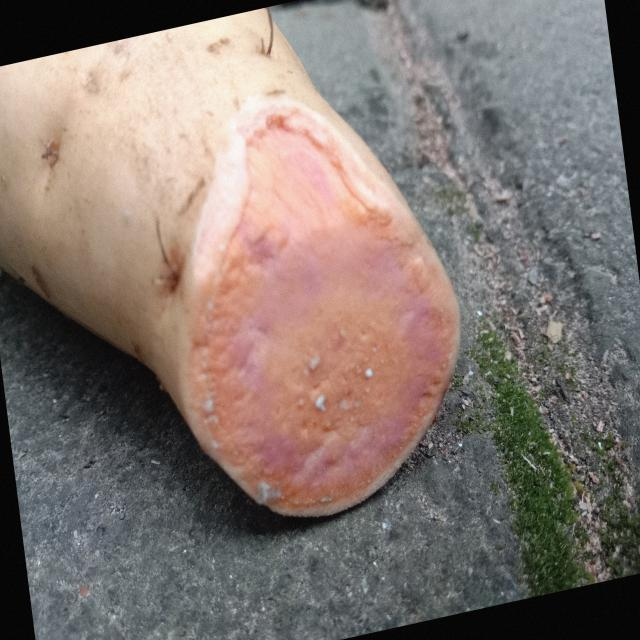Healthy Sweet Potato: (184, 95, 460, 515)
